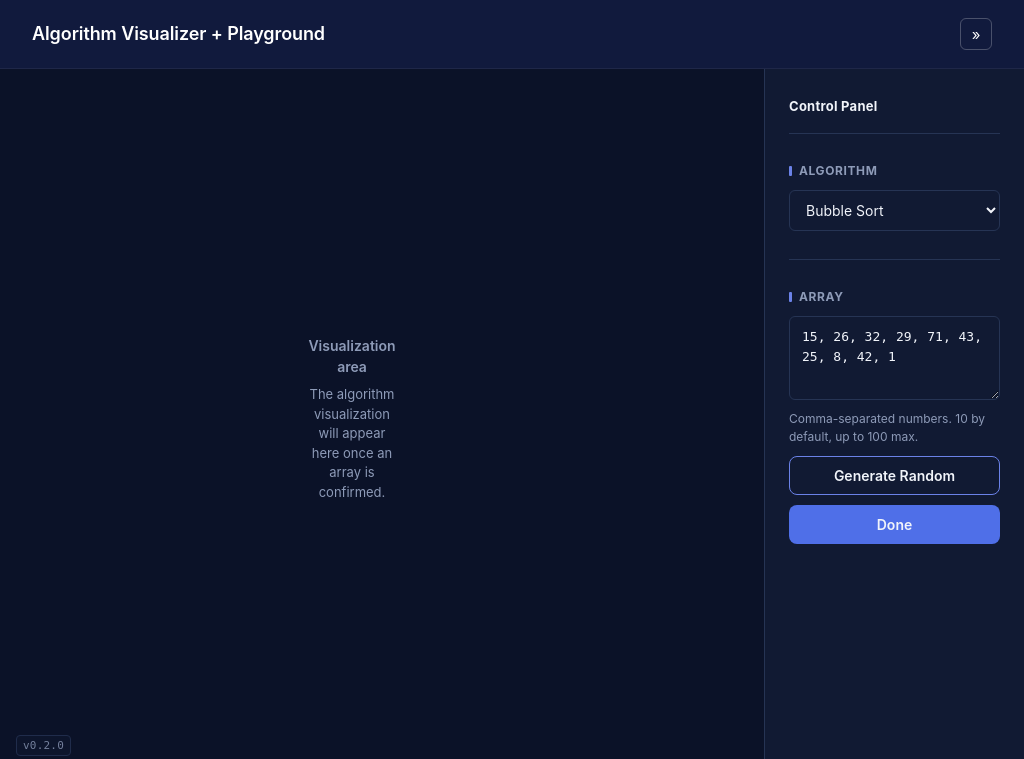
it: App — Algorithm Selector: available options and default › defaults to Bubble Sort, and a fresh Done confirms a Bubble Sort session without touching the selector
Expected: the dropdown labelled "Algorithm" shows "Bubble Sort", [789,190,1000,230]
Step 1. Replace the text in the text box labelled "Array" with "8, 3, 5, 1" → [894, 358], box [789,316,1000,400]
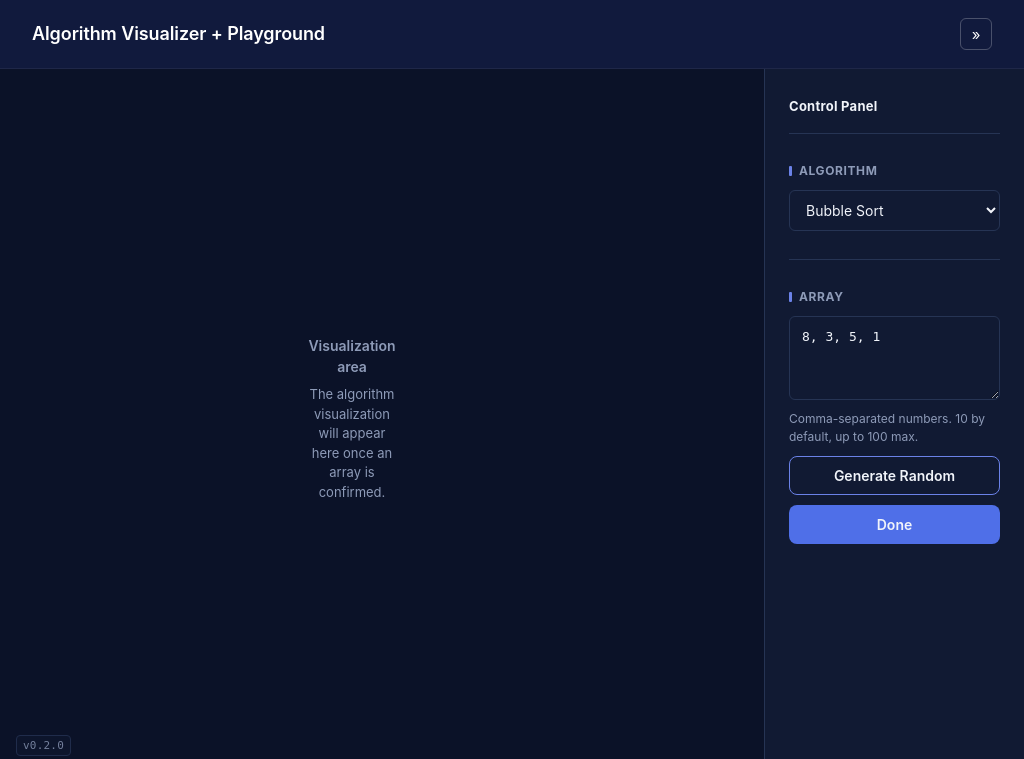
Step 2. Click the button "Done" → [894, 524], box [789,505,1000,544]
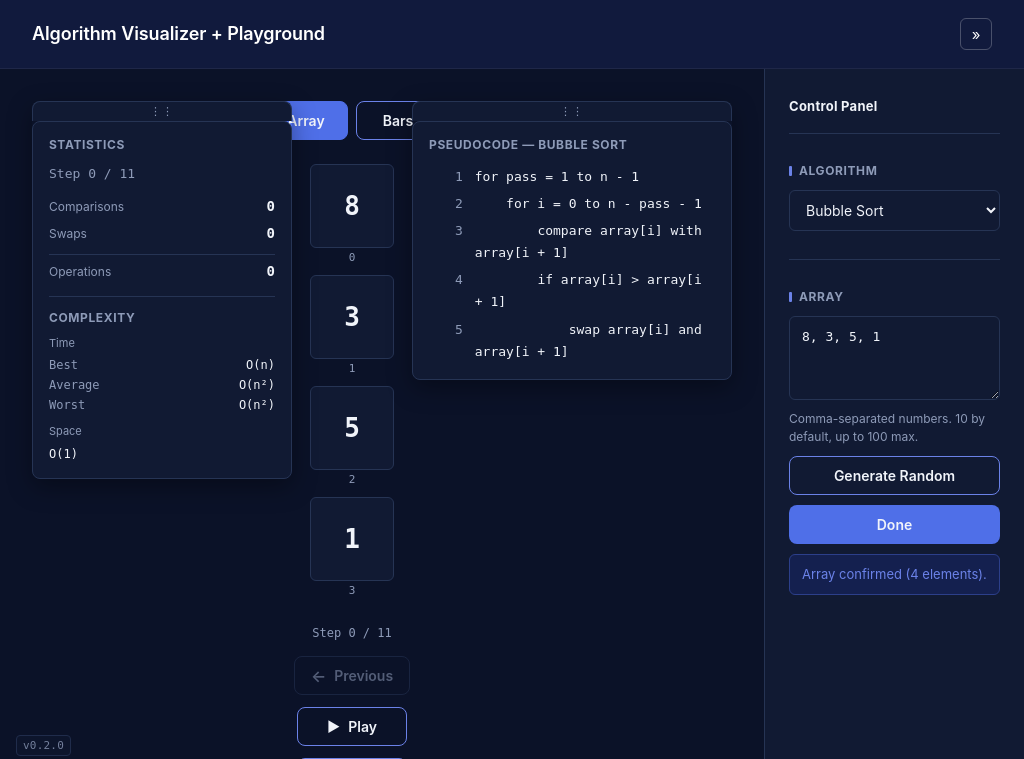
Now the text "Step 0 / 11" below "Statistics" is shown, box [49,166,135,181]
